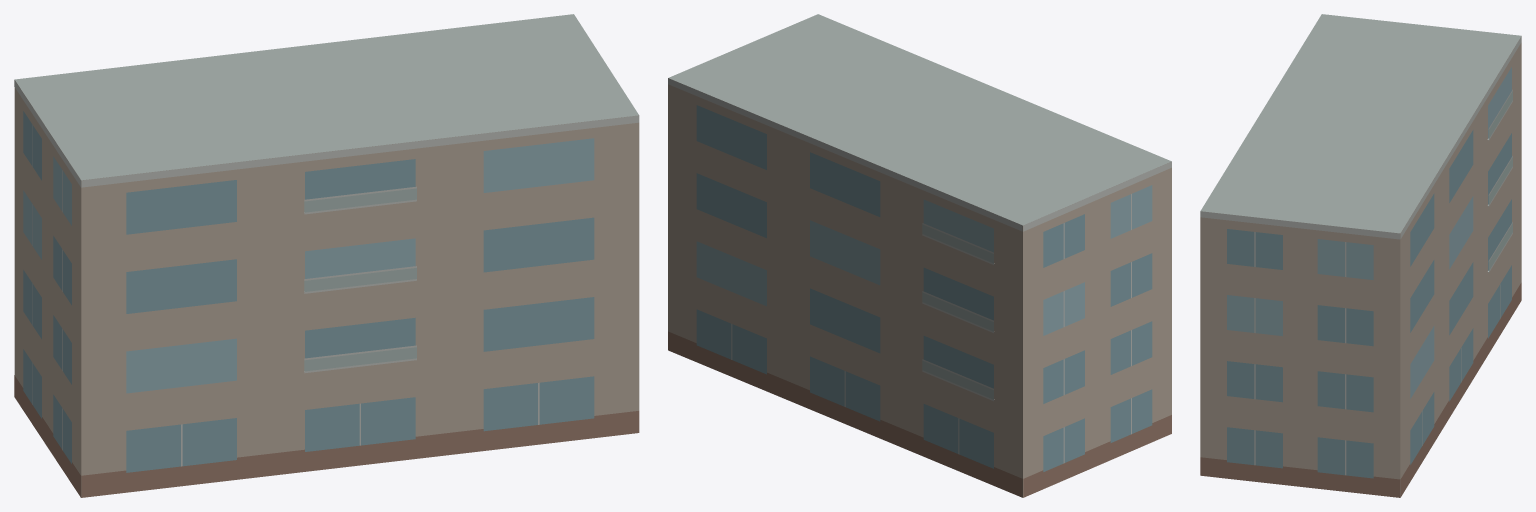
The model's file is survey-upis-32703919.glb.
3 views of the same model, side by side, from view 1: azimuth 30°, elevation 25°; view 2: azimuth 150°, elevation 25°; view 3: azimuth 270°, elevation 25° (orthographic). The views are drawn at different scales.
Visible parts, largest first — view 1: survey-upis-32703919.tmp; view 2: survey-upis-32703919.tmp; view 3: survey-upis-32703919.tmp.
Part boxes in pixels (<box>): survey-upis-32703919.tmp: <box>14,14,639,497</box>; survey-upis-32703919.tmp: <box>668,14,1171,497</box>; survey-upis-32703919.tmp: <box>1200,14,1521,497</box>.
Size of the model in its own units: 18.88 by 10.6 by 11.68.
